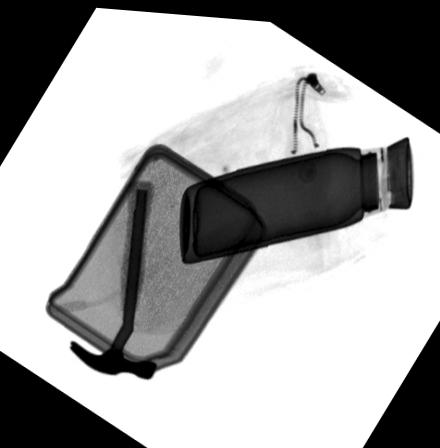Hammer: (69, 177, 157, 378)
